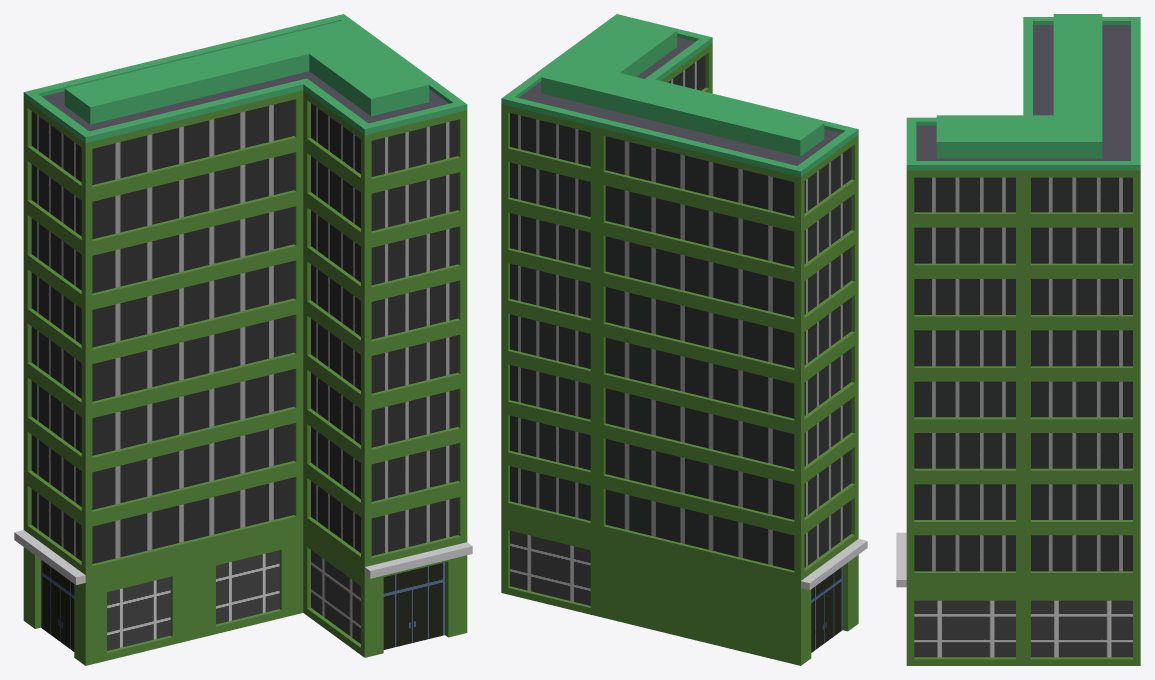
Rendered from building21c.FBX.
3 renders of one model, left to right at view 1: azimuth 30°, elevation 25°; view 2: azimuth 150°, elevation 25°; view 3: azimuth 270°, elevation 25°, orthographic. The views are drawn at different scales.
Visible parts, largest first — view 1: building21c; view 2: building21c; view 3: building21c.
Part boxes in pixels (<box>): building21c: <box>14,14,472,665</box>; building21c: <box>501,14,867,665</box>; building21c: <box>896,14,1140,665</box>.
Bounding box in the file's own units: 30.84 × 48.46 × 20.88.
